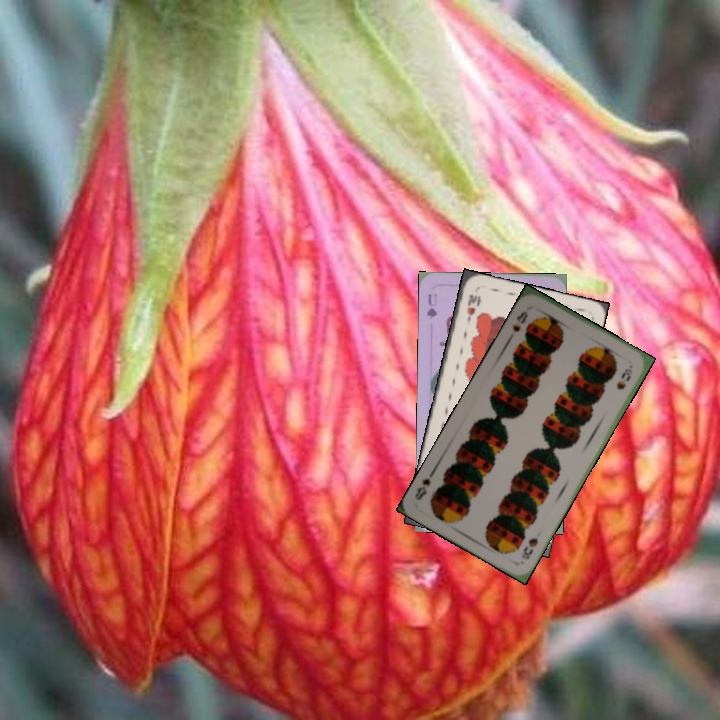GU: (423, 290, 439, 322)
H10: (463, 290, 481, 325)
S8: (517, 533, 541, 562), (508, 307, 530, 335)
